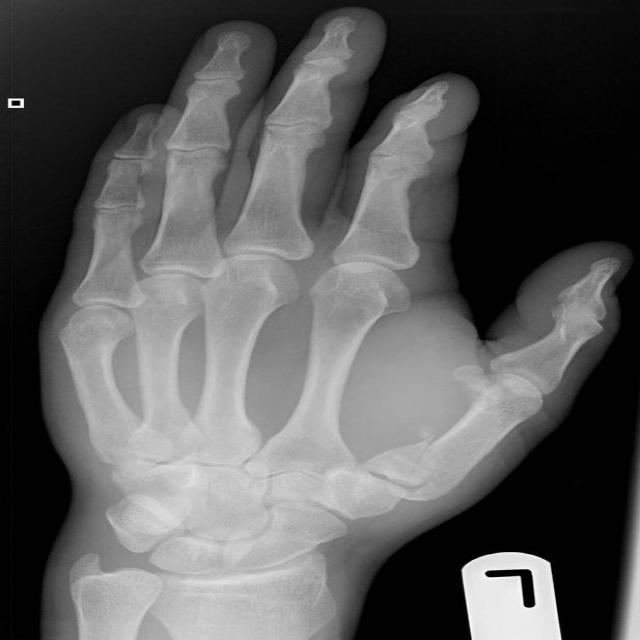fracture: (334, 425, 480, 521)
